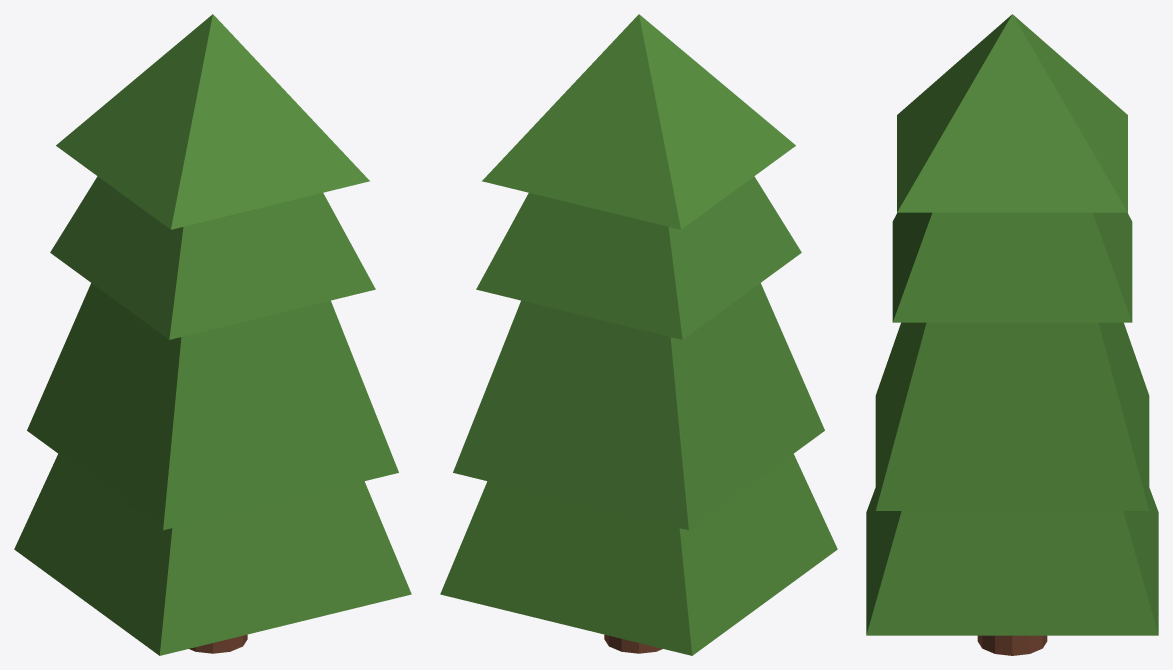
File: Tree_17_summer_vc.fbx
3 views of the same model, side by side, from view 1: azimuth 30°, elevation 25°; view 2: azimuth 150°, elevation 25°; view 3: azimuth 270°, elevation 25° (orthographic).
Parts seen in each view (by area): view 1: Tree_17_summer_vc; view 2: Tree_17_summer_vc; view 3: Tree_17_summer_vc.
Part boxes in pixels (left/top/right/bottom): Tree_17_summer_vc: left=14, top=14, right=411, bottom=655; Tree_17_summer_vc: left=440, top=14, right=837, bottom=655; Tree_17_summer_vc: left=866, top=14, right=1158, bottom=655.
Bounding box in the file's own units: 65.5 × 155 × 65.5.
